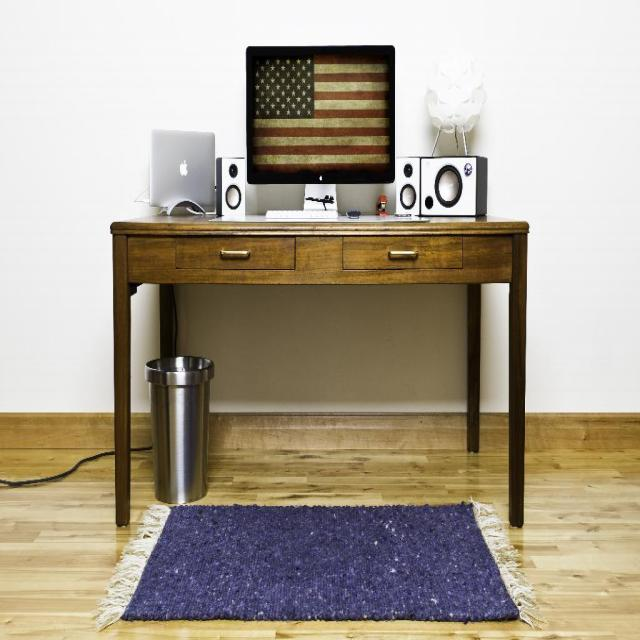desk: (109, 210, 529, 530)
tv: (245, 46, 394, 194)
